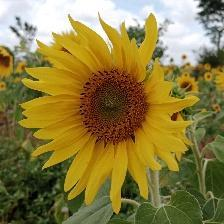sunflower: (18, 10, 201, 215)
